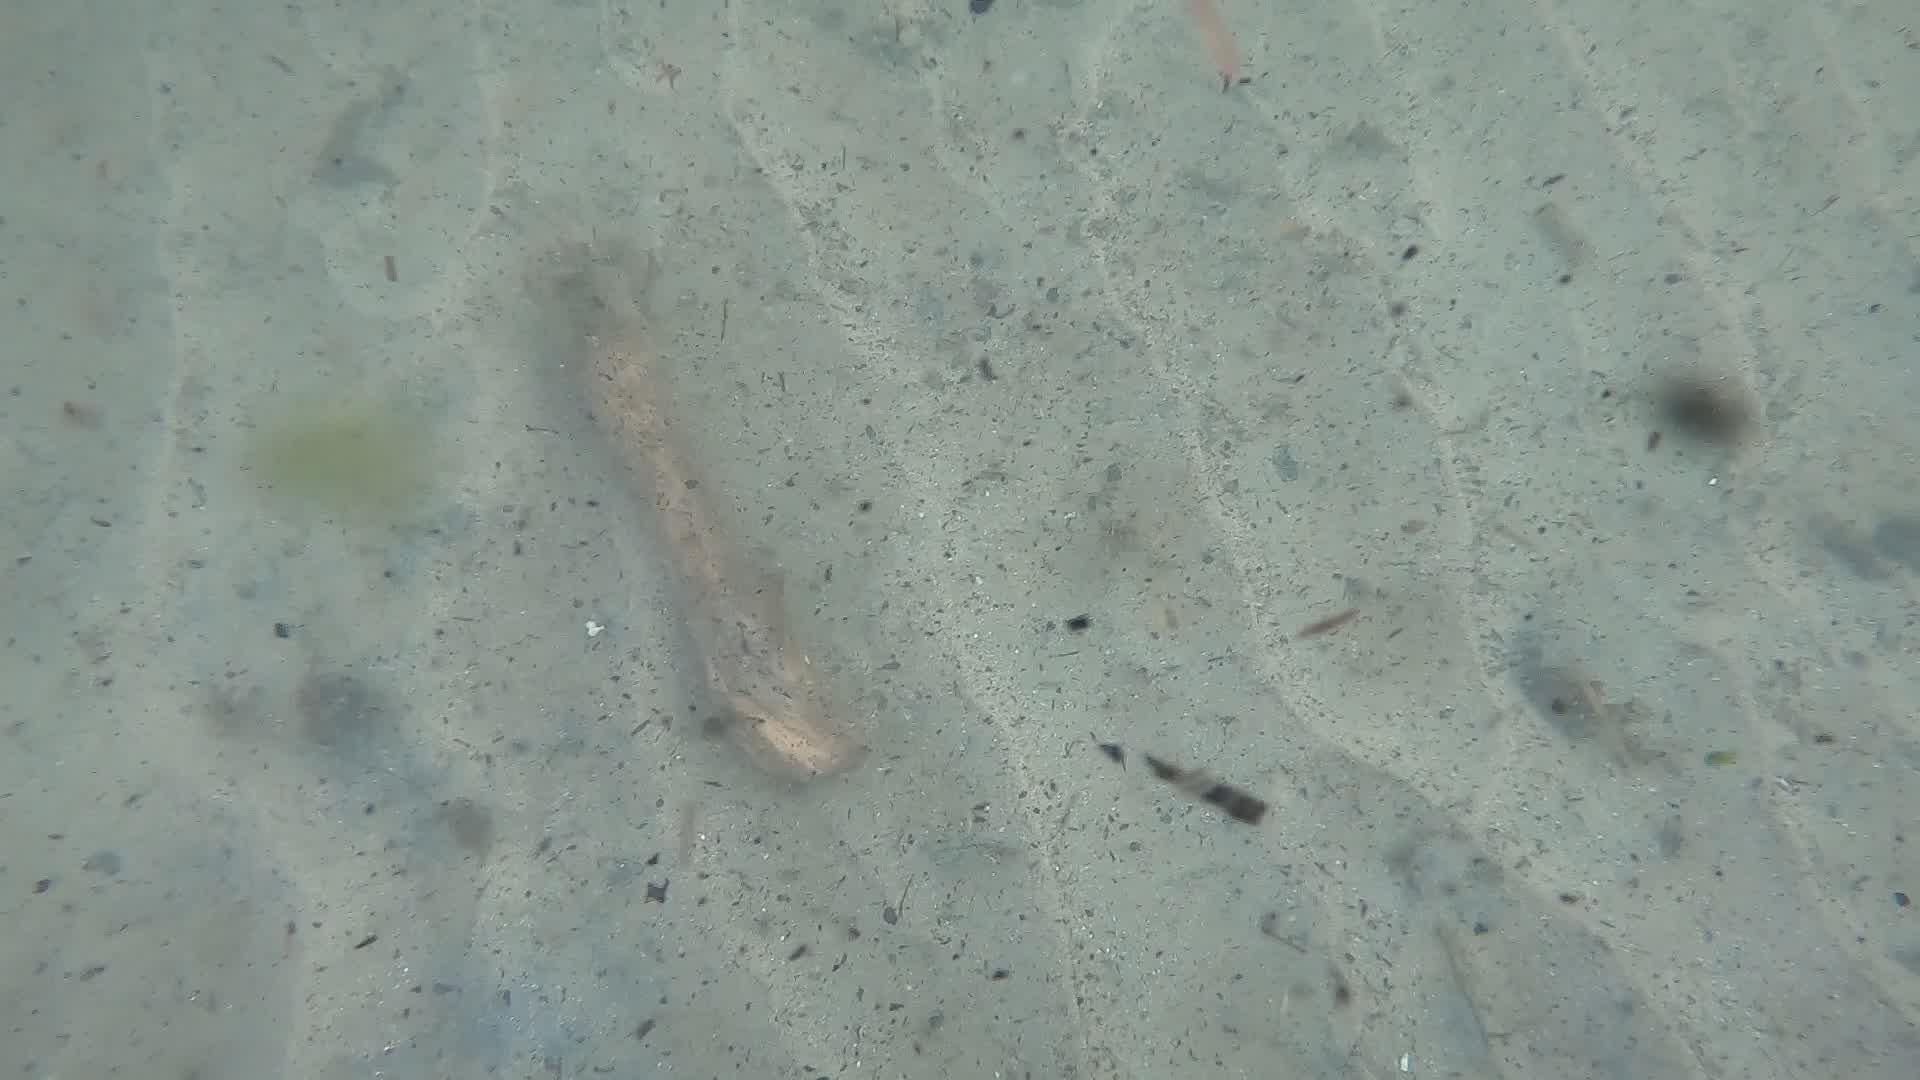wood: (539, 265, 853, 781)
